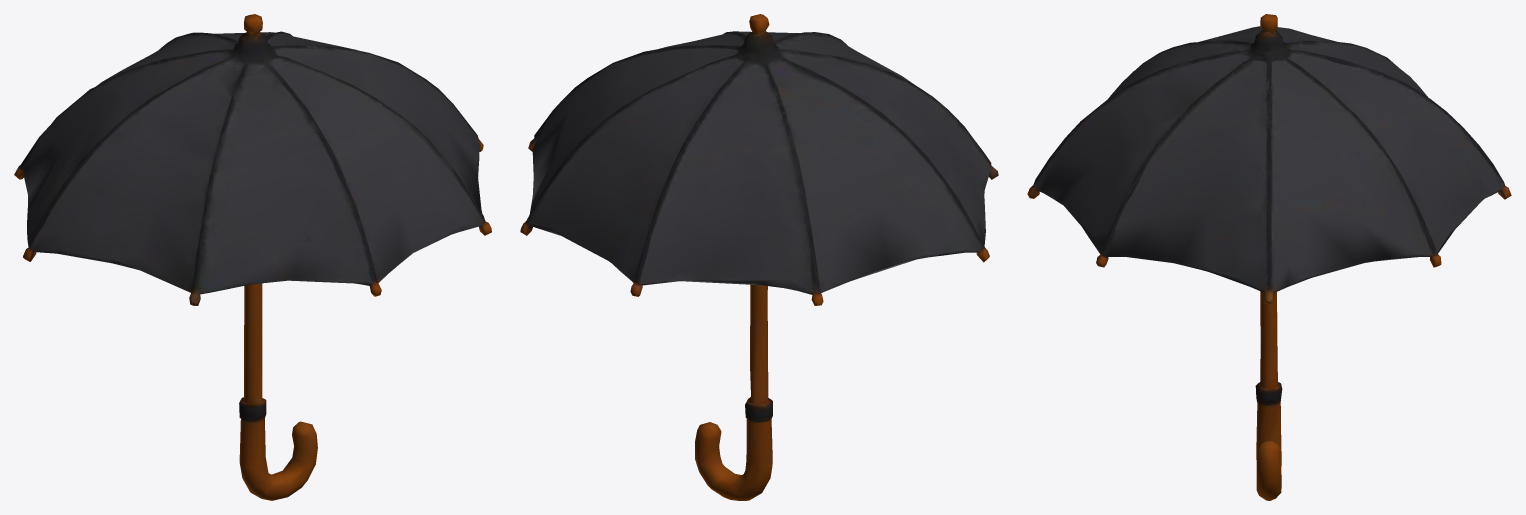
File: umbrella.glb
3 views of the same model, side by side, from view 1: azimuth 30°, elevation 25°; view 2: azimuth 150°, elevation 25°; view 3: azimuth 270°, elevation 25° (orthographic). The views are drawn at different scales.
Visible parts, largest first — view 1: umbrella-node; view 2: umbrella-node; view 3: umbrella-node.
Part boxes in pixels (<box>): umbrella-node: <box>14,14,491,500</box>; umbrella-node: <box>520,14,998,500</box>; umbrella-node: <box>1027,14,1511,500</box>.
Size of the model in its own units: 0.9841 by 1 by 0.9343.
1 material, 1 textured.
